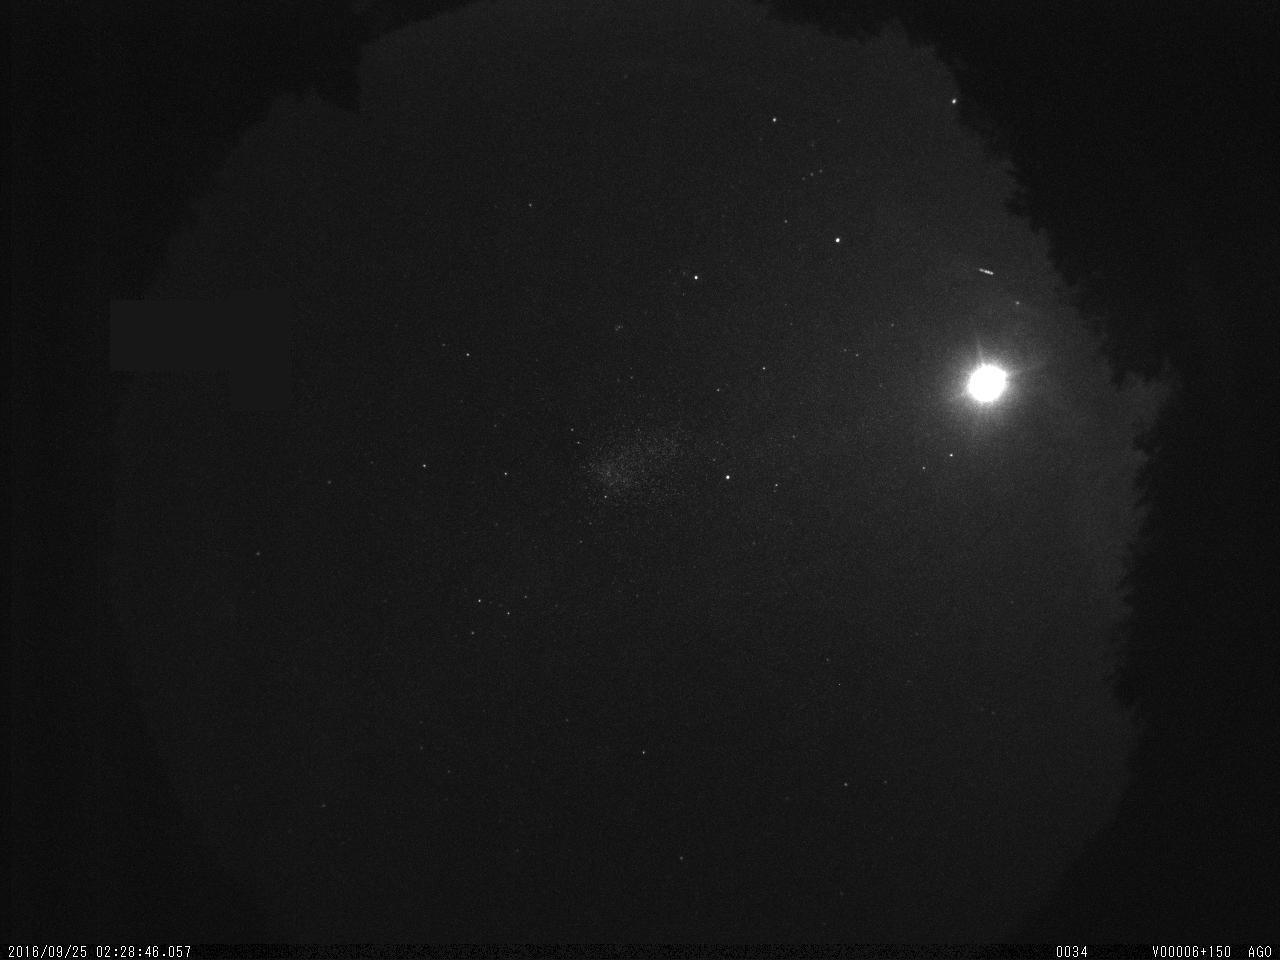Meteor: (972, 259, 1003, 287)
